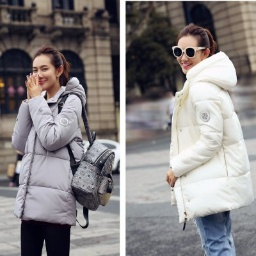face: (172, 24, 217, 74), (30, 44, 69, 93)
